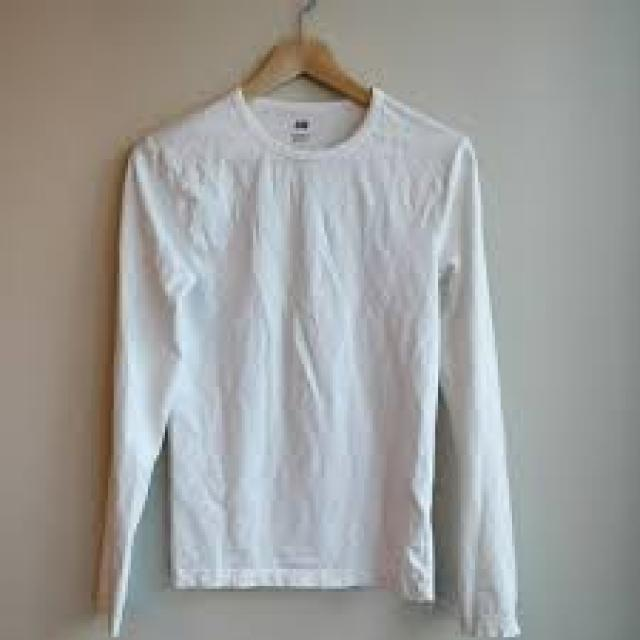plain: (52, 56, 574, 634)
